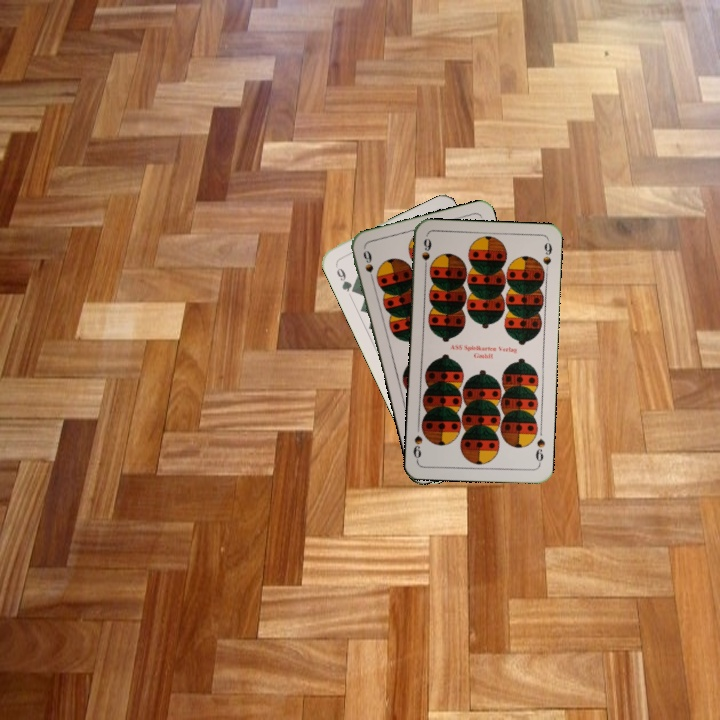G9: (331, 260, 359, 296)
S9: (359, 246, 377, 285), (418, 234, 434, 274), (532, 435, 547, 467)
